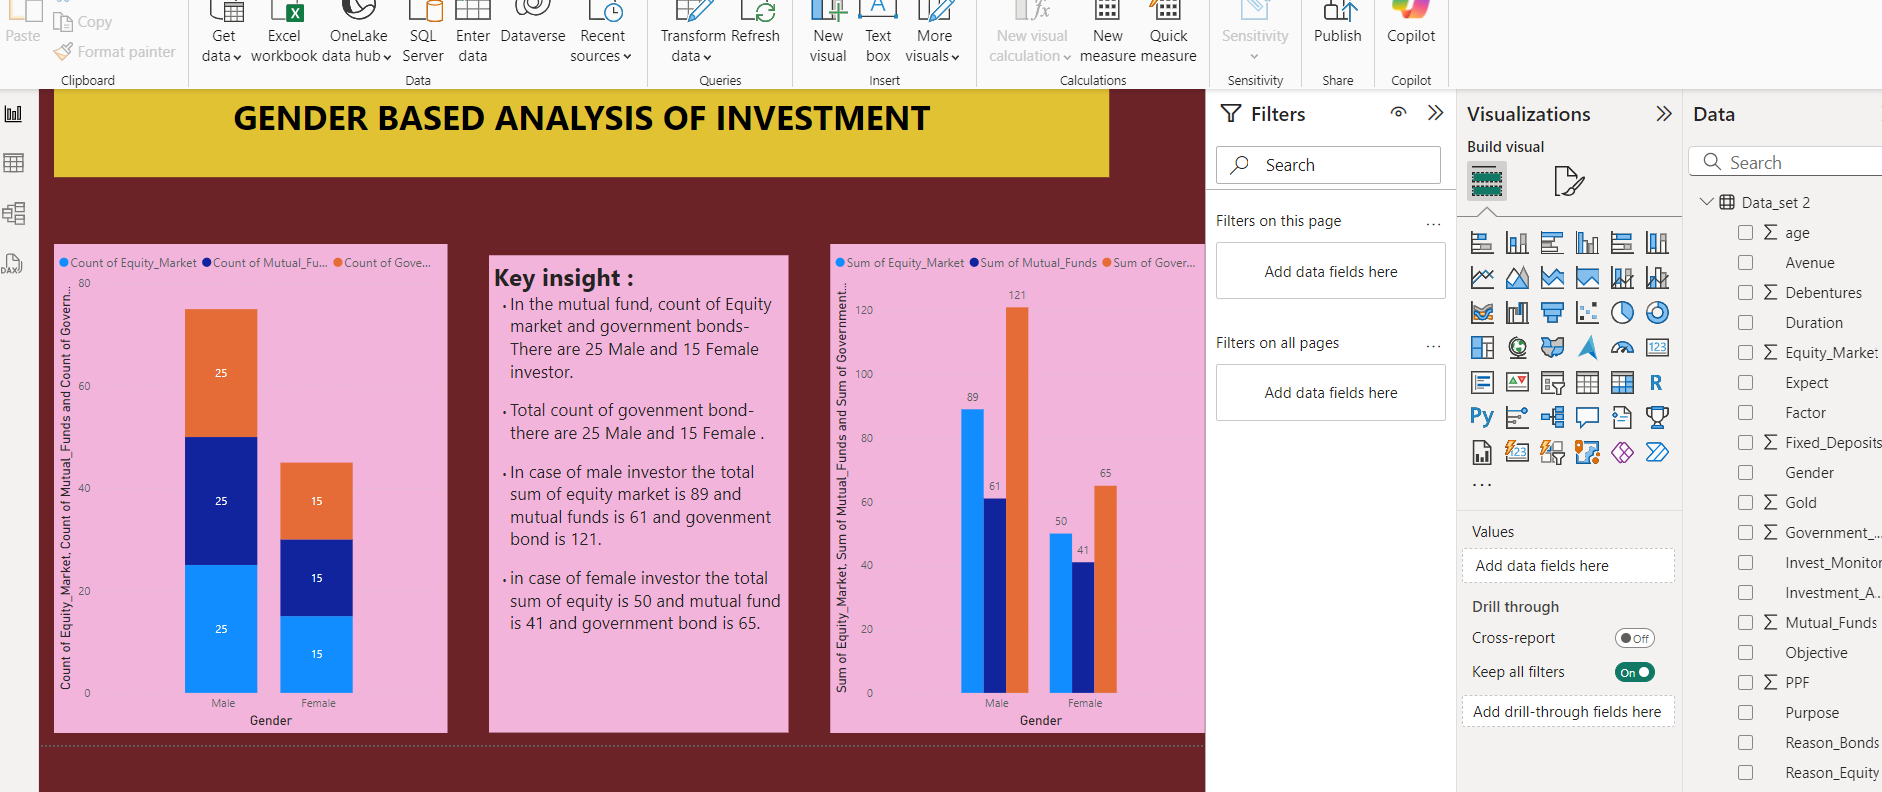

The page's visual inventory and layout, read from the dashboard file:
{"tool":"powerbi","page":{"name":"Page 2","canvas":[1280,720],"ordinal":1},"visuals":[{"type":"columnChart","fields":{"Y":["CountNonNull(Data_set 2.Equity_Market)","CountNonNull(Data_set 2.Mutual_Funds)","CountNonNull(Data_set 2.Government_Bonds)"],"Category":["Data_set 2.Gender"]},"box":[15.9,169.8,431.7,536.5],"z":0},{"type":"clusteredColumnChart","fields":{"Category":["Data_set 2.Gender"],"Y":["Sum(Data_set 2.Equity_Market)","Sum(Data_set 2.Mutual_Funds)","Sum(Data_set 2.Government_Bonds)"]},"box":[868.3,169.8,411.1,536.5],"z":1000},{"type":"textbox","box":[493.7,182.5,328.6,523.8],"z":2000},{"type":"textbox","box":[15.9,0,1158.7,96.8],"z":3000}]}

Visuals, with their boxes on the page's 1280x720 design canvas (x1, y1, x2, y2). These are canvas units, not pixel positions in the 1882x792 screenshot, which may show the page scaled, cropped or inside an application window:
columnChart - CountNonNull(Data_set 2.Equity_Market) x CountNonNull(Data_set 2.Mutual_Funds): {"left": 16, "top": 170, "right": 448, "bottom": 706}
clusteredColumnChart - Data_set 2.Gender x Sum(Data_set 2.Equity_Market): {"left": 868, "top": 170, "right": 1279, "bottom": 706}
textbox: {"left": 494, "top": 182, "right": 822, "bottom": 706}
textbox: {"left": 16, "top": 0, "right": 1175, "bottom": 97}
